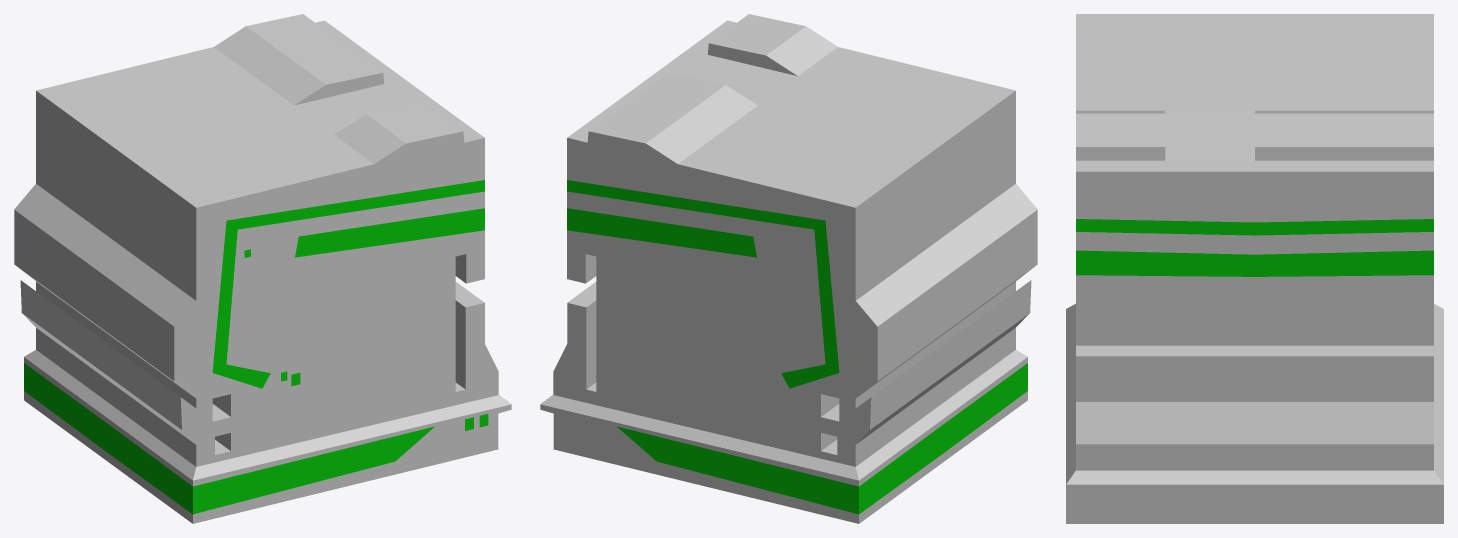
Rendered from block1.fbx.
The picture shows the model from 3 angles, left to right: view 1: azimuth 30°, elevation 25°; view 2: azimuth 150°, elevation 25°; view 3: azimuth 270°, elevation 25°; orthographic projection. The views are drawn at different scales.
Visible parts, largest first — view 1: Plane.024; view 2: Plane.024; view 3: Plane.024.
Boxes of the visible parts, left/top/right/bottom form: Plane.024: left=14, top=14, right=511, bottom=523; Plane.024: left=540, top=14, right=1037, bottom=523; Plane.024: left=1066, top=14, right=1443, bottom=523.
Size of the model in its own units: 148 by 138 by 130.
